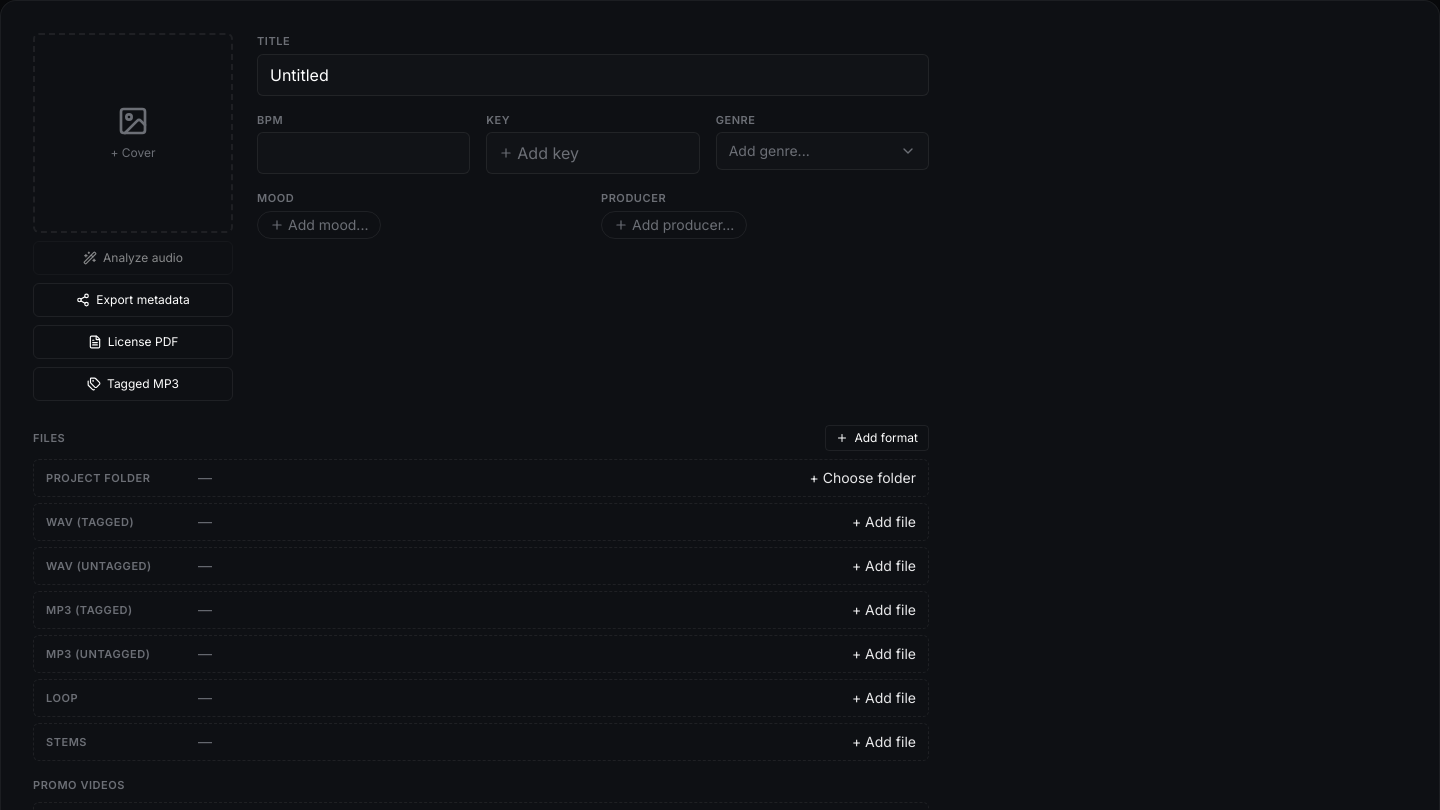
Scenario: TrackEditor (auto-save) › does not auto-save when the title is empty (and surfaces the requirement)
Clear the field showing "Untitled": point(593, 74) [257,54,929,96]
Wait 2000 ms
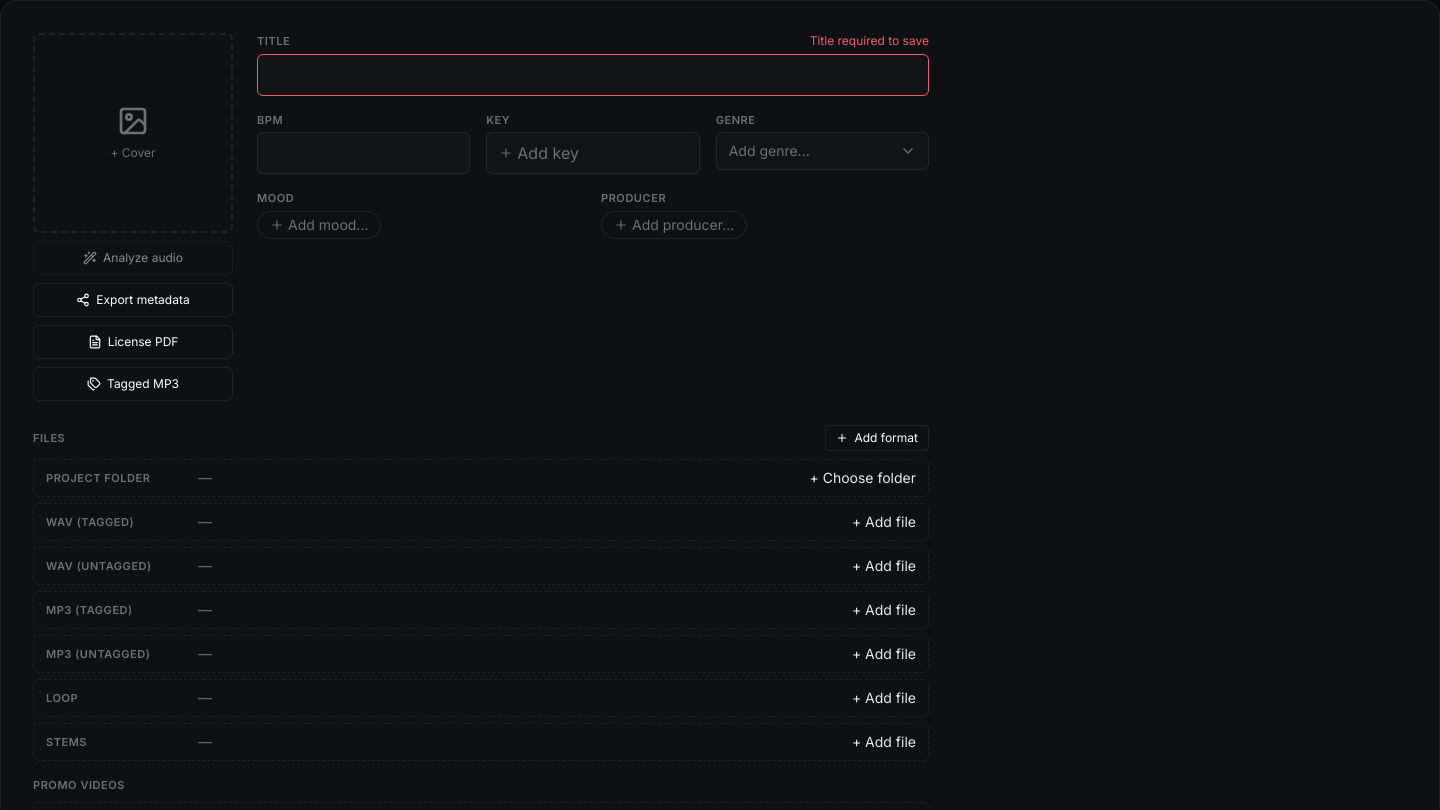
expect the text "Title required to save" is shown: met, box [810,33,929,49]
